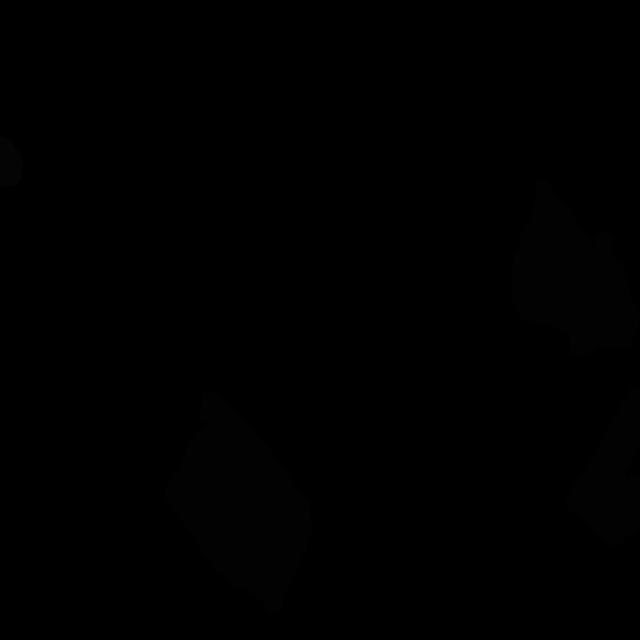cardboard: (165, 391, 314, 615), (510, 177, 640, 356), (565, 385, 640, 547)
soft_plastic: (0, 135, 23, 187)
